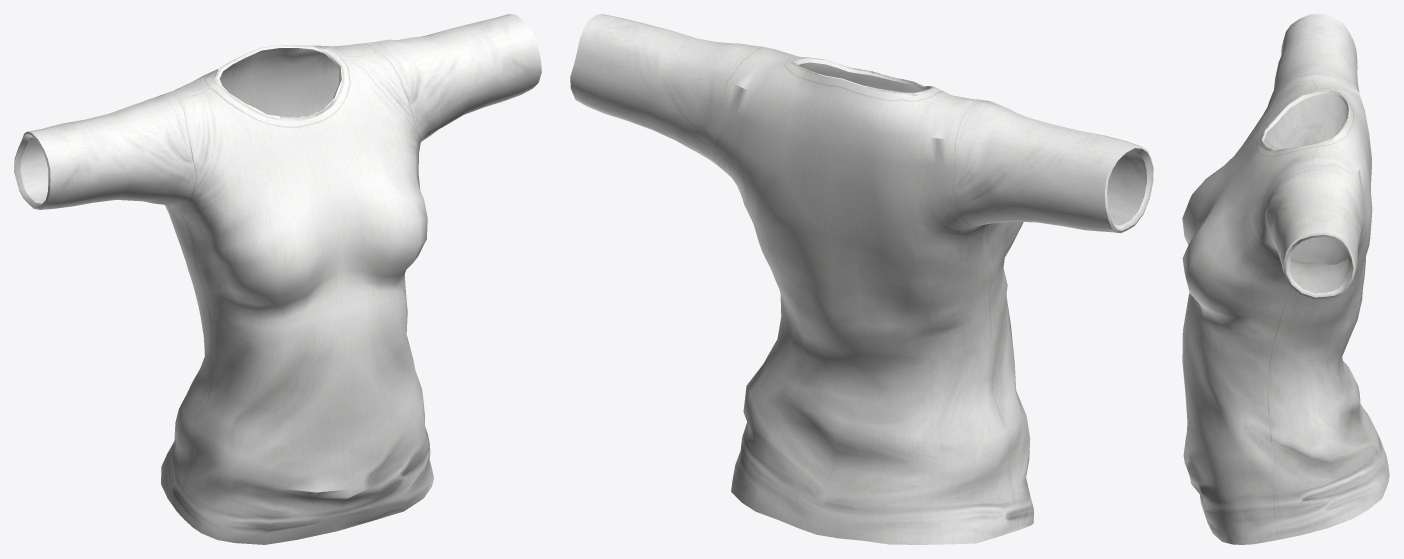
The model's file is t-shirt_t_pose.glb.
3 views of the same model, side by side, from view 1: azimuth 30°, elevation 25°; view 2: azimuth 150°, elevation 25°; view 3: azimuth 270°, elevation 25° (orthographic). The views are drawn at different scales.
Visible parts, largest first — view 1: Object_2; view 2: Object_2; view 3: Object_2.
Part boxes in pixels (x1,y1,x2,y2): Object_2: (14,14,541,544); Object_2: (570,14,1153,544); Object_2: (1182,14,1389,544).
Bounding box in the file's own units: 74.75 × 61.71 × 29.42.
Materials: 1 (1 with a texture image).
